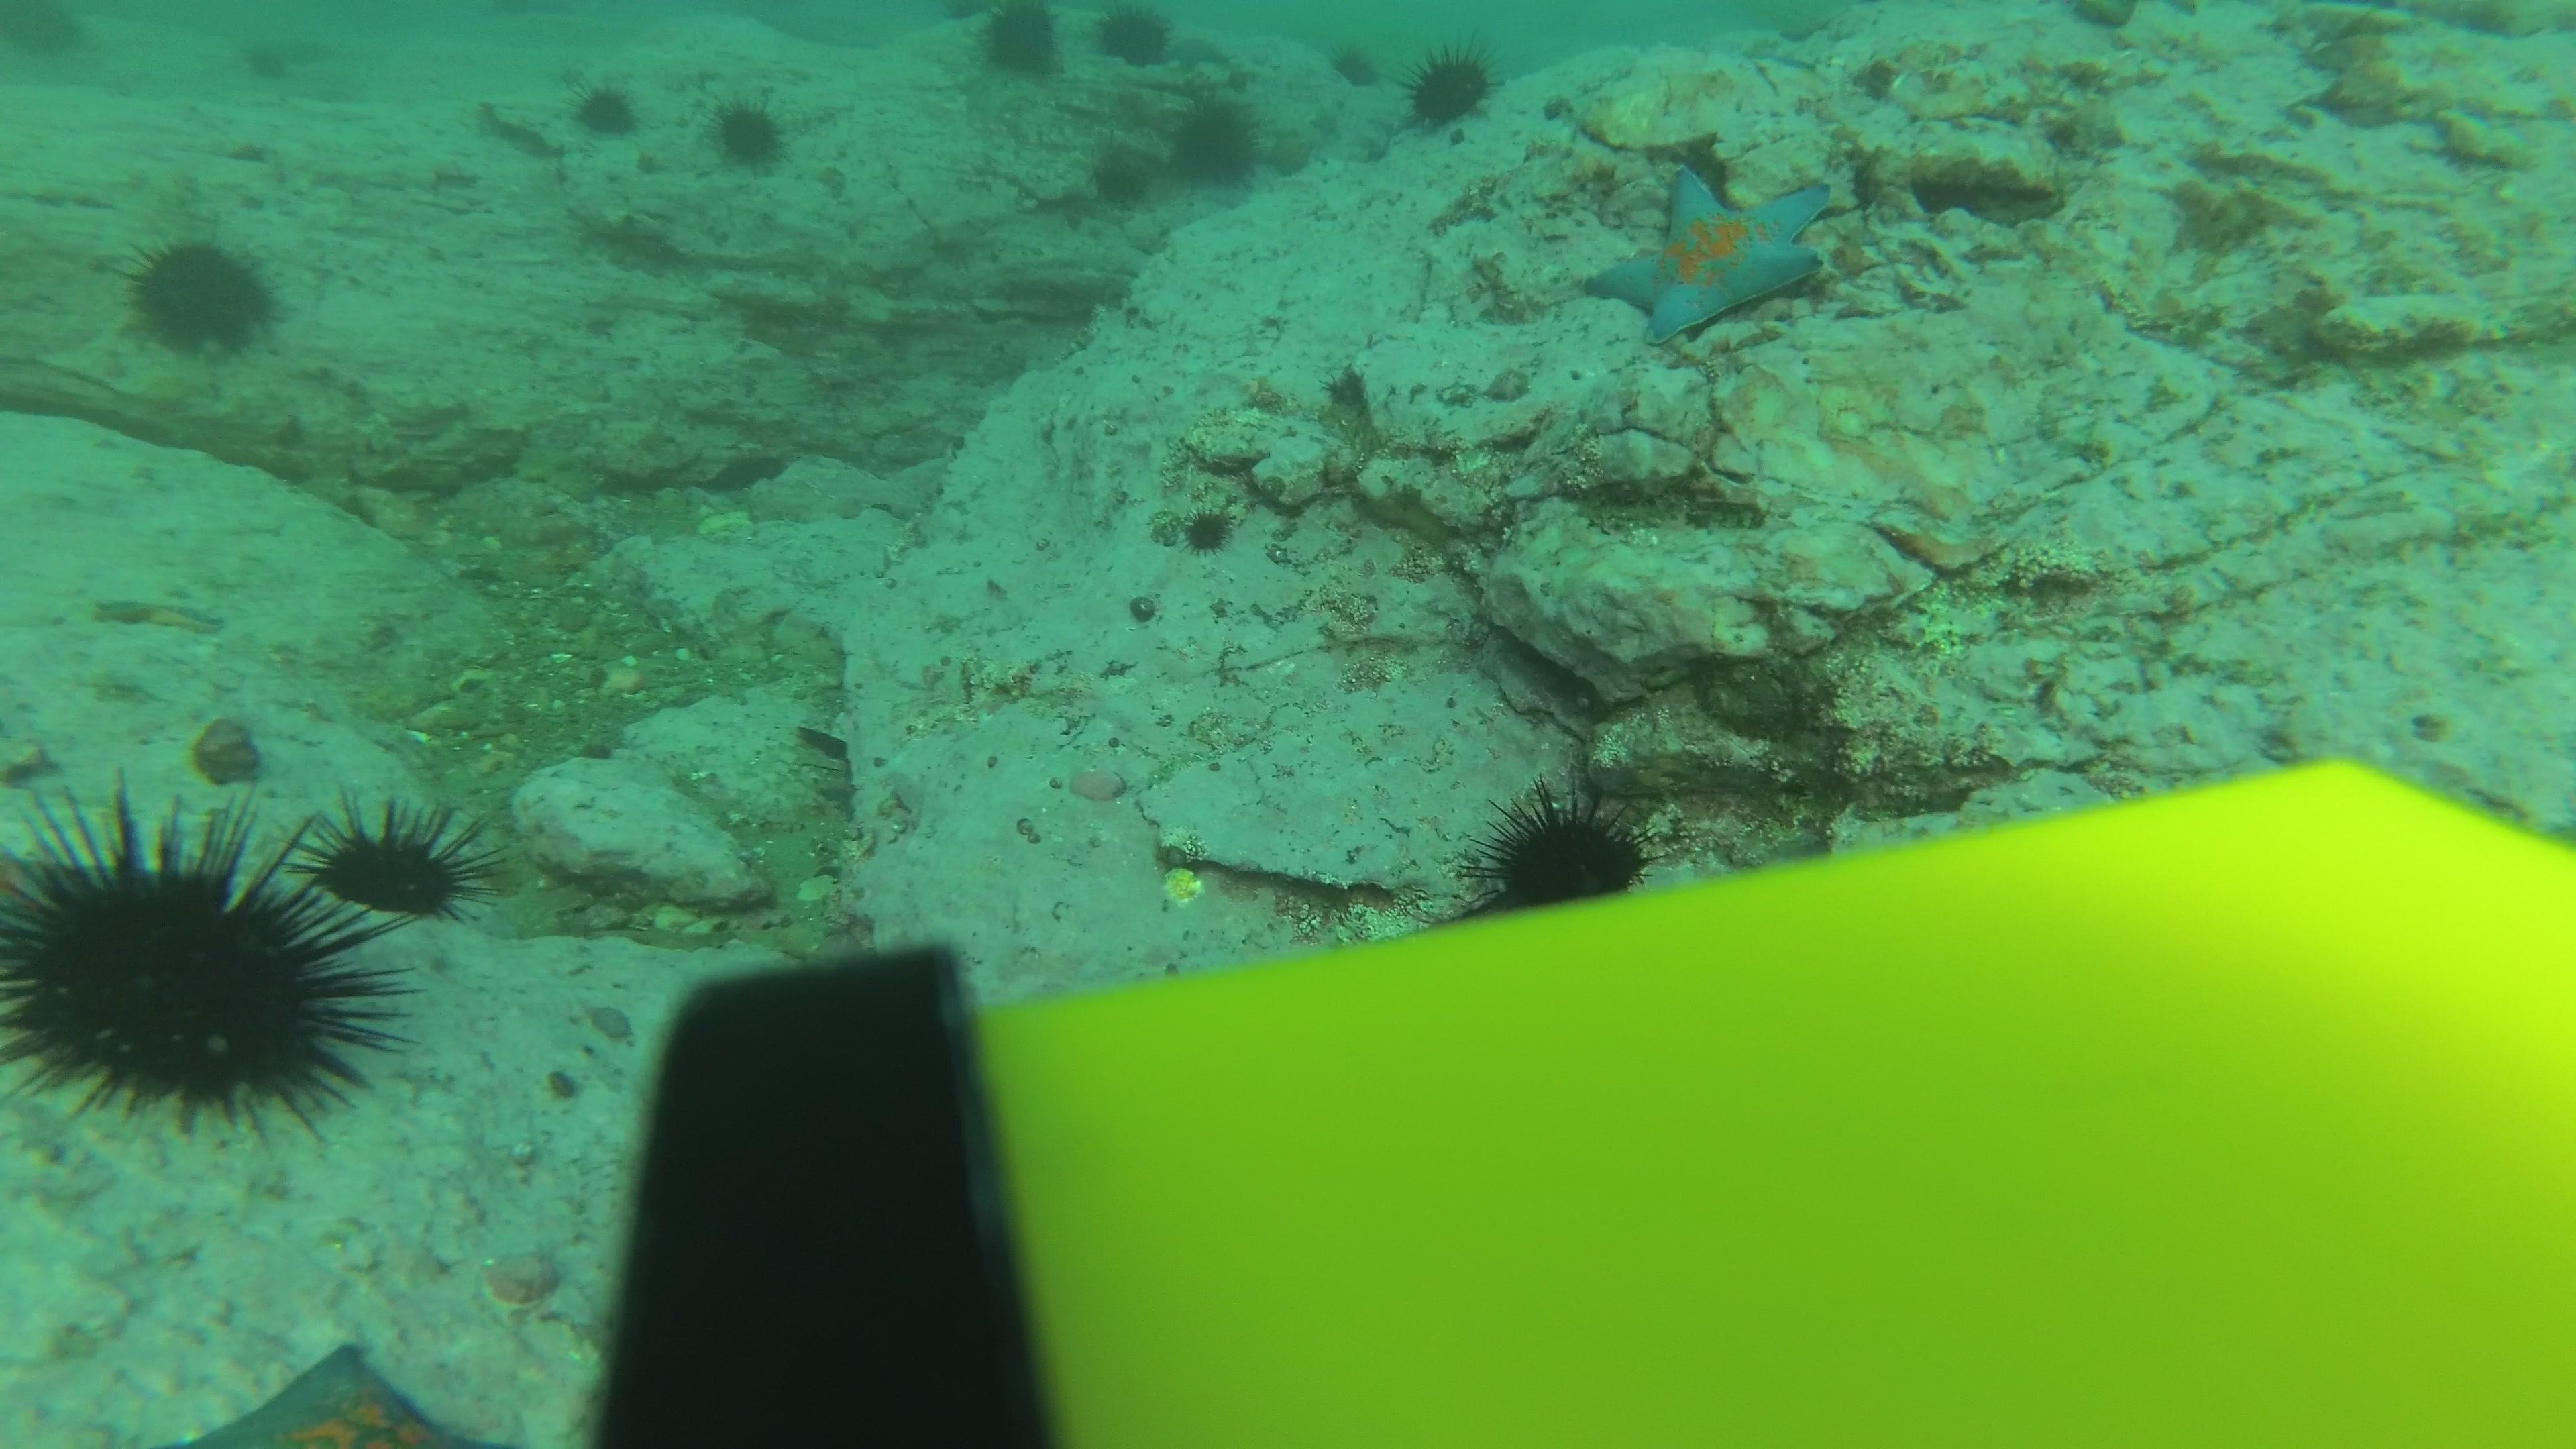echinus: (0, 784, 400, 1143), (297, 791, 492, 932), (1465, 782, 1656, 911), (120, 230, 281, 361), (1164, 92, 1269, 193), (1399, 41, 1502, 136), (970, 2, 1065, 85), (706, 92, 794, 173), (1092, 4, 1177, 73), (0, 0, 88, 64), (568, 76, 642, 142), (228, 35, 303, 99), (1325, 30, 1392, 97), (1086, 145, 1154, 211), (1175, 495, 1240, 561)
starfish: (1580, 159, 1840, 345), (205, 1332, 478, 1438), (87, 584, 226, 639), (1260, 127, 1318, 180)
